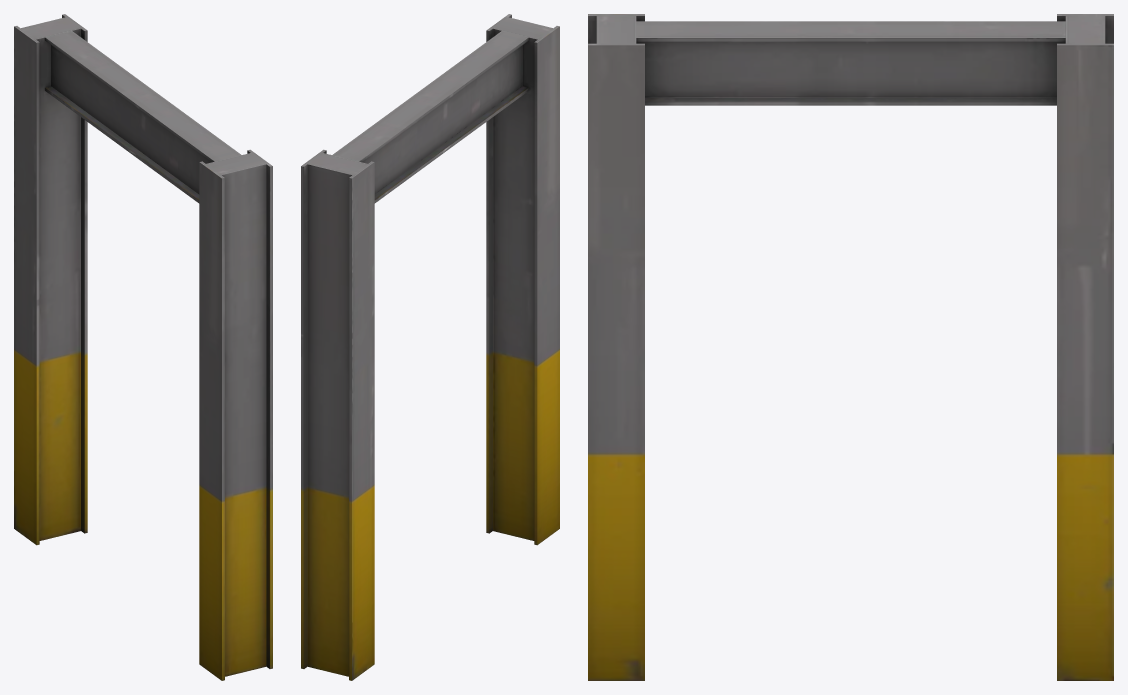
The picture shows the model from 3 angles, left to right: view 1: azimuth 30°, elevation 25°; view 2: azimuth 150°, elevation 25°; view 3: azimuth 270°, elevation 25°; orthographic projection. The views are drawn at different scales.
Parts seen in each view (by area): view 1: body0_model0_lod0_mesh0; view 2: body0_model0_lod0_mesh0; view 3: body0_model0_lod0_mesh0.
Part boxes in pixels (<box>): body0_model0_lod0_mesh0: <box>14,14,272,680</box>; body0_model0_lod0_mesh0: <box>301,14,559,680</box>; body0_model0_lod0_mesh0: <box>588,14,1113,680</box>.
Bounding box in the file's own units: 33.99 × 320 × 240.
Materials: 1 (1 with a texture image).
